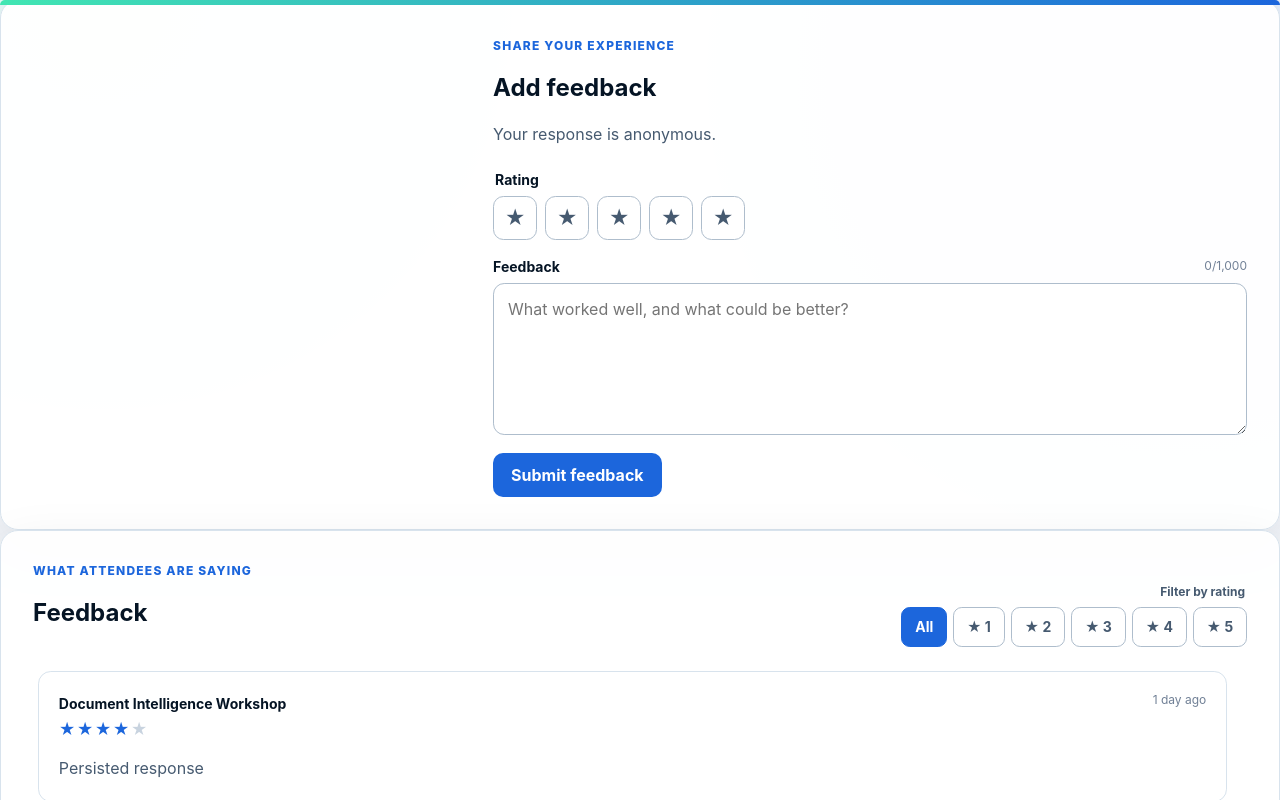
EventFeedbackExperience › keeps live feedback outside a non-matching rating view
Check: the text "Persisted response" is shown, box x1=59 y1=758 x2=204 y2=778
Click the button named "5 stars".
click(1220, 627)  # box x1=1193 y1=607 x2=1247 y2=647
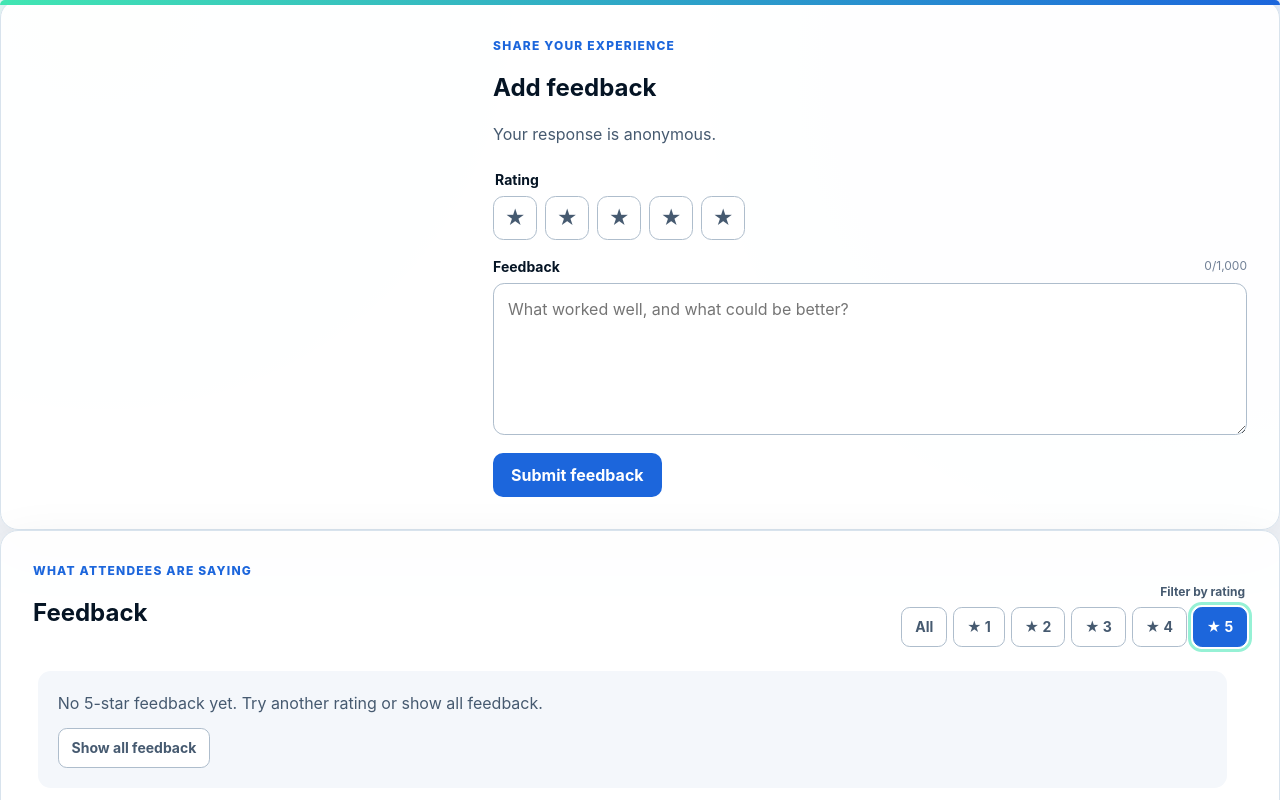
Check: the text "No 5-star feedback yet. Try another rating or show all feedback." is shown, box x1=58 y1=693 x2=543 y2=713
